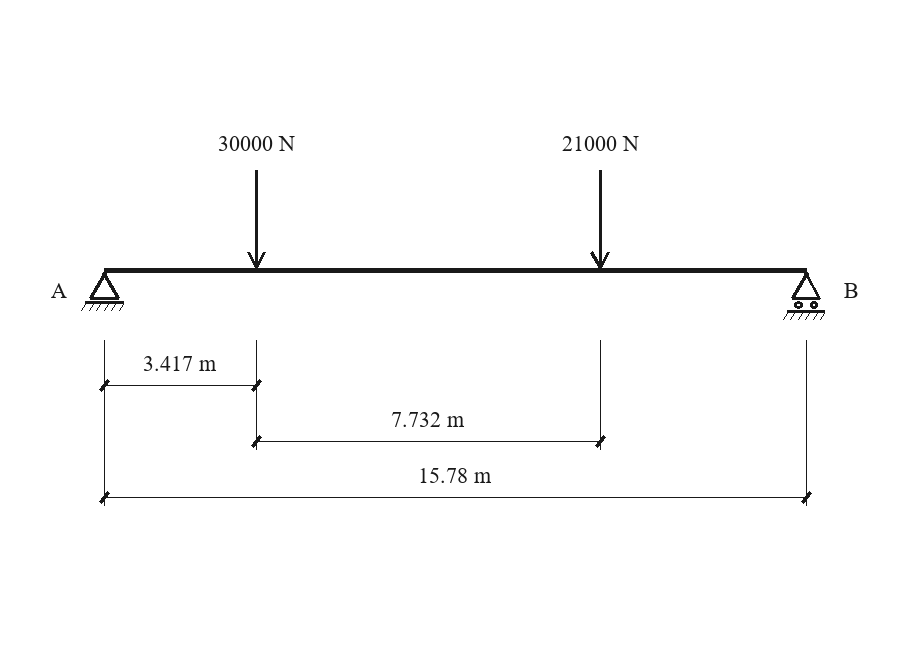pin_support: (81, 272, 124, 311)
point_load: (590, 170, 610, 269), (247, 170, 266, 268)
roller_support: (783, 272, 825, 320)
